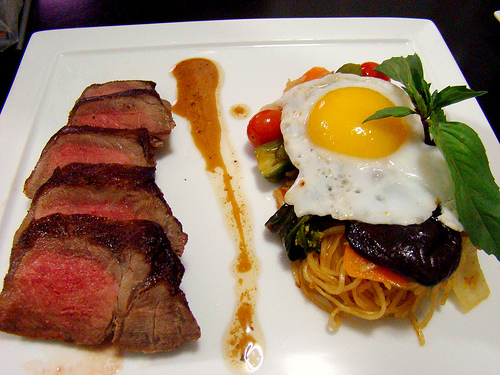egg: (280, 73, 460, 228)
